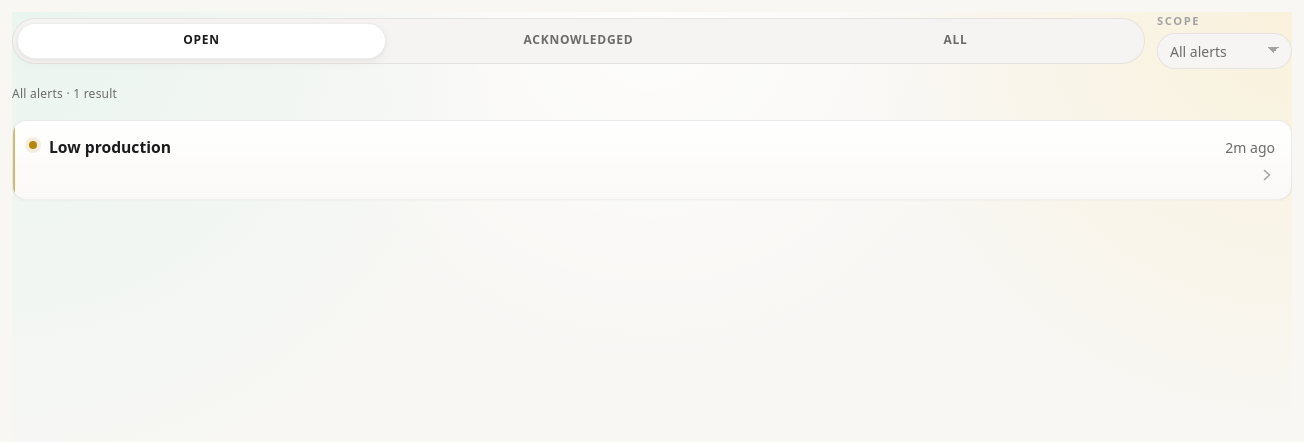
Test case: AlertCenter › rolls optimistic acknowledgement updates back on failure
Click the element with test id "alert-card-201" at {"x": 652, "y": 160}, box [12,120,1292,200]
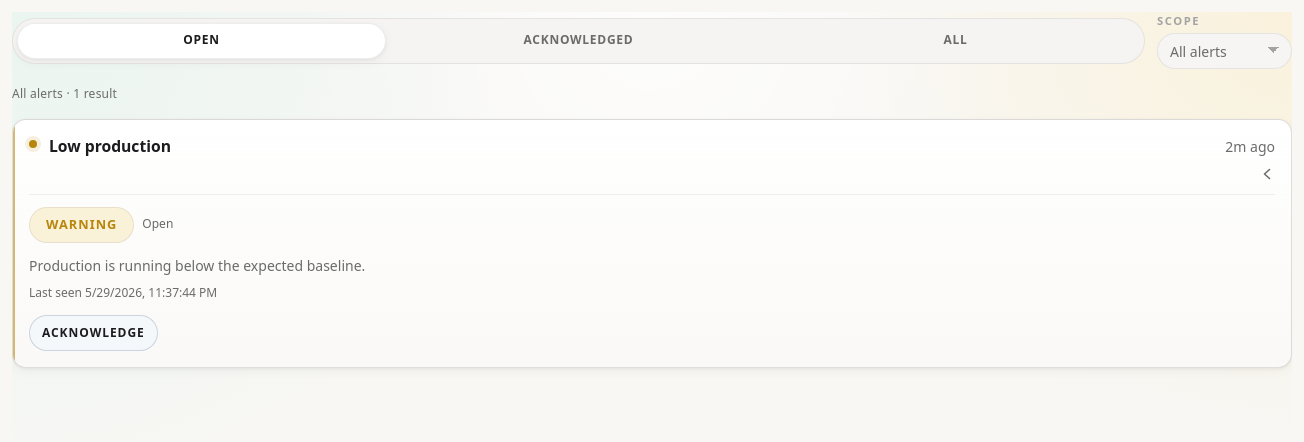
Click the button with test id "acknowledge-submit-button" at {"x": 93, "y": 333}, box [29,315,158,351]
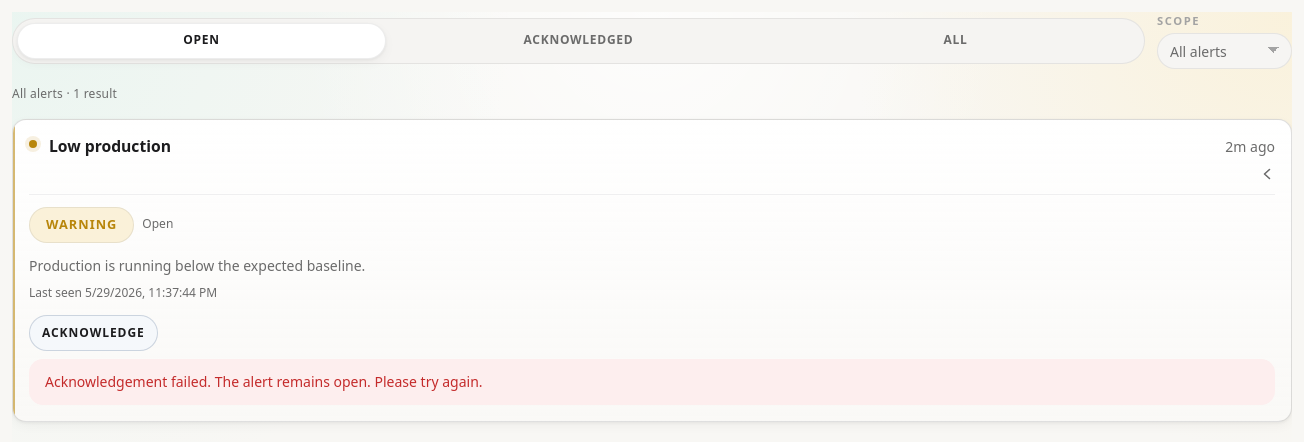
Expected: the element with test id "alert-card-201" shows "Acknowledge", [29,315,158,351]
Expected: the message "Acknowledgement failed. The alert remains open. Please try again." is shown, [29,359,1275,405]
